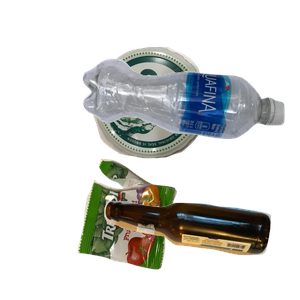glass: (101, 198, 300, 300)
metal: (90, 44, 289, 195)
plastic: (80, 56, 300, 187)
trash: (75, 156, 244, 300)
